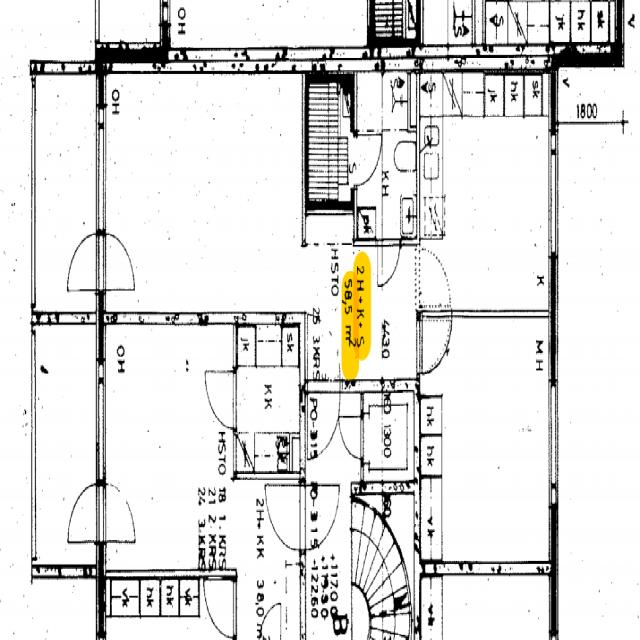door: (307, 317, 340, 392), (307, 380, 340, 455), (96, 234, 134, 290), (68, 234, 106, 290), (422, 310, 452, 376), (354, 134, 382, 184), (377, 239, 399, 288)
